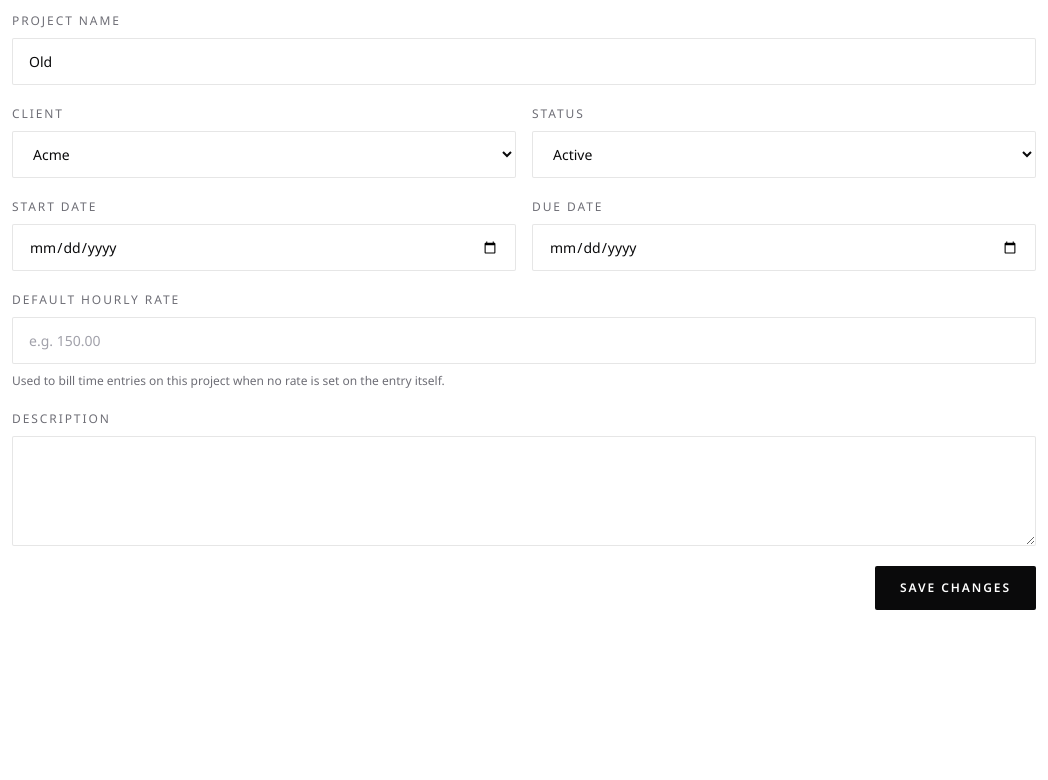
Test case: ProjectForm › surfaces a server error when saving an edit
The width and height of the screenshot is (1048, 780).
Click the button "Save changes".
click(956, 588)  # box [875,566,1036,610]
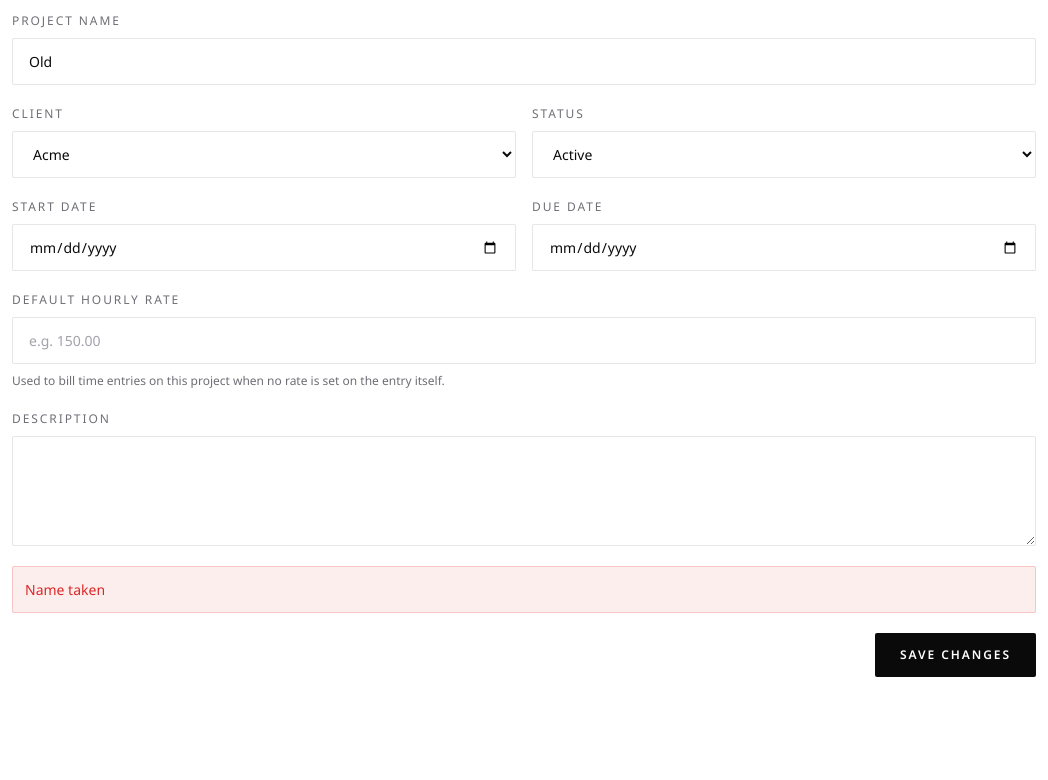
Result: the text "Name taken" is shown at [12,566,1036,613]
